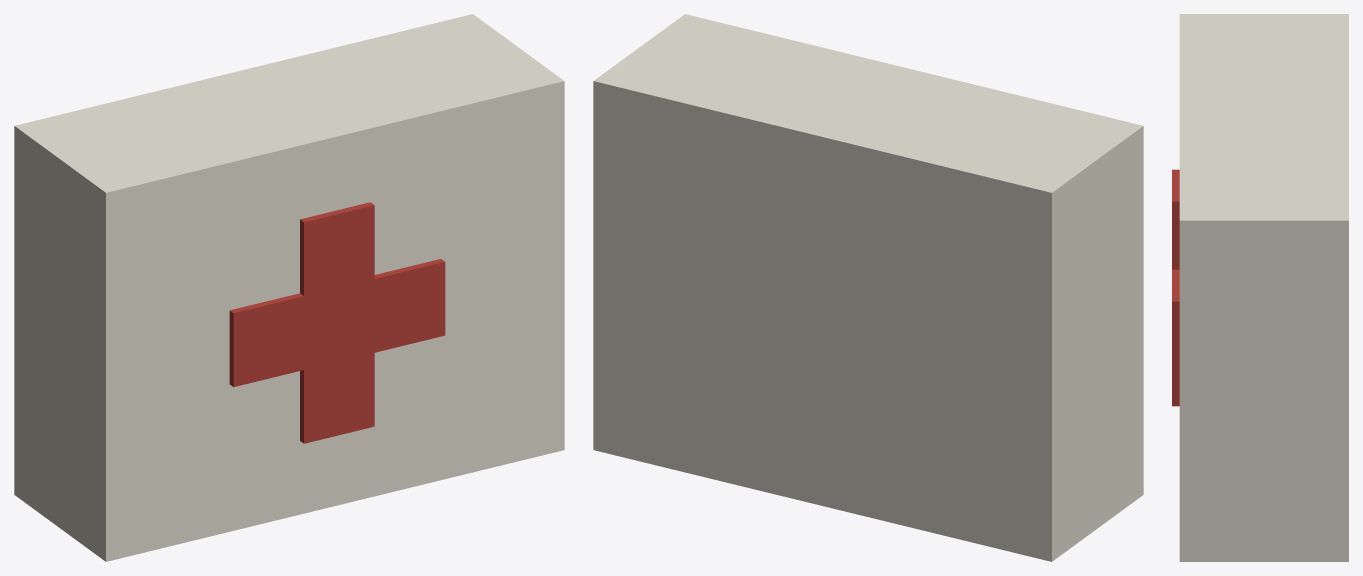
The model's file is GD_FirstAidKit_01.glb.
The picture shows the model from 3 angles, left to right: view 1: azimuth 30°, elevation 25°; view 2: azimuth 150°, elevation 25°; view 3: azimuth 270°, elevation 25°; orthographic projection. The views are drawn at different scales.
Parts seen in each view (by area): view 1: GD_FirstAidKit_01; view 2: GD_FirstAidKit_01; view 3: GD_FirstAidKit_01.
Boxes of the visible parts, x1=… form: GD_FirstAidKit_01: x1=14, y1=14, x2=564, y2=561; GD_FirstAidKit_01: x1=593, y1=14, x2=1143, y2=561; GD_FirstAidKit_01: x1=1172, y1=14, x2=1348, y2=561.
Bounding box in the file's own units: 0.26 × 0.2 × 0.094.
Materials: 1 (1 with a texture image).
